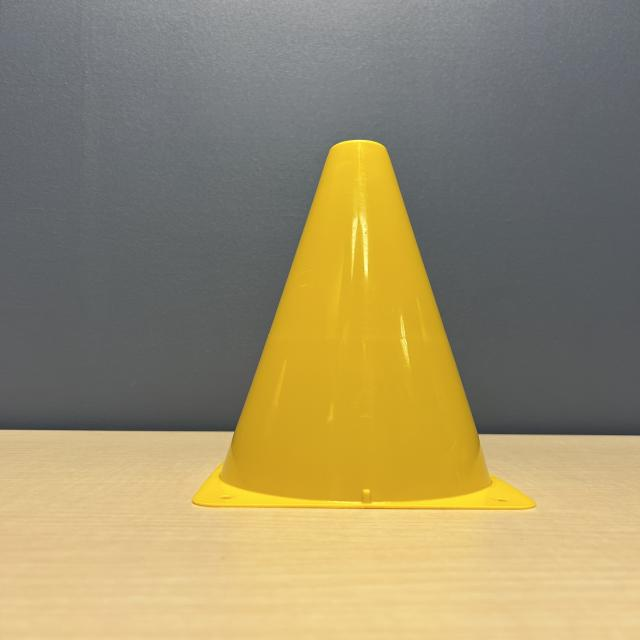yellow cone: (186, 134, 548, 517)
